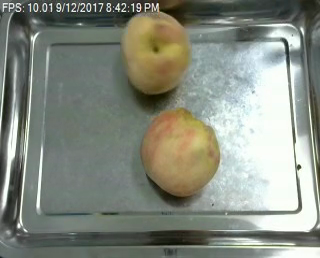Peach: (140, 107, 222, 196), (121, 8, 189, 95)
